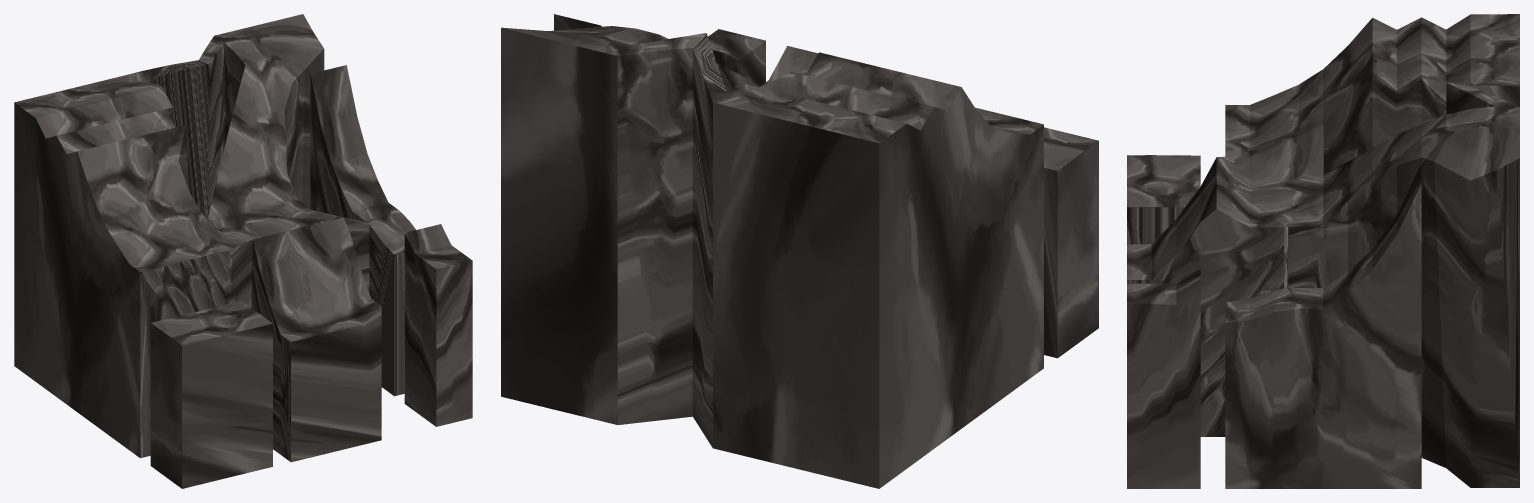
Rendered from stage.glb.
The picture shows the model from 3 angles, left to right: view 1: azimuth 30°, elevation 25°; view 2: azimuth 150°, elevation 25°; view 3: azimuth 270°, elevation 25°; orthographic projection. The views are drawn at different scales.
Parts seen in each view (by area): view 1: Cube; view 2: Cube; view 3: Cube.
Part boxes in pixels (x1,y1,x2,y2): Cube: (14, 14, 472, 488); Cube: (501, 14, 1098, 488); Cube: (1127, 14, 1519, 488).
Bounding box in the file's own units: 2 × 1.88 × 2.
Materials: 1 (1 with a texture image).
